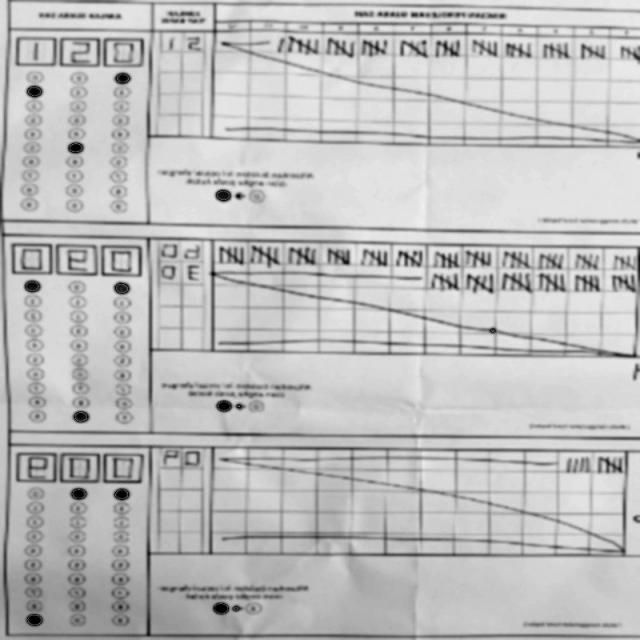Suara: (10, 447, 149, 485), (11, 34, 150, 71), (8, 242, 146, 279)
